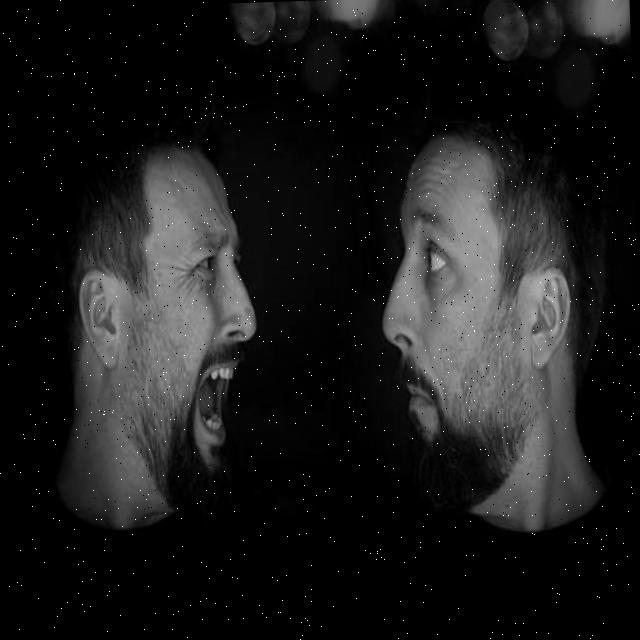Fear: (376, 135, 505, 512), (141, 144, 262, 508)
